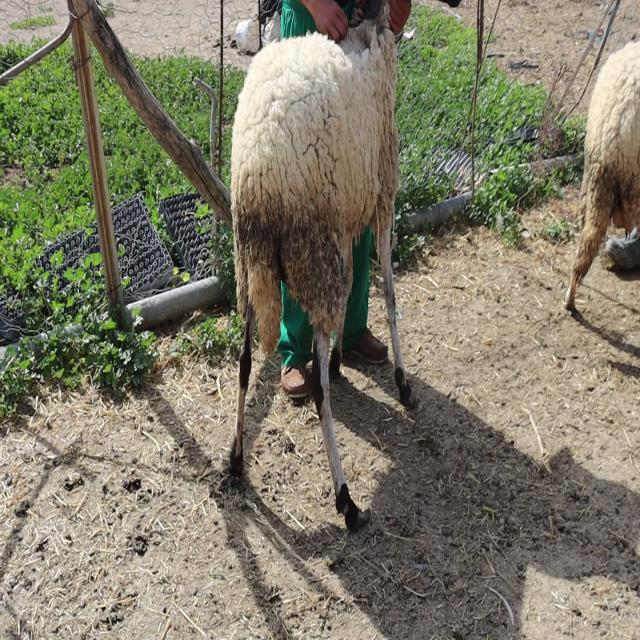Score_3: (230, 0, 412, 529)
